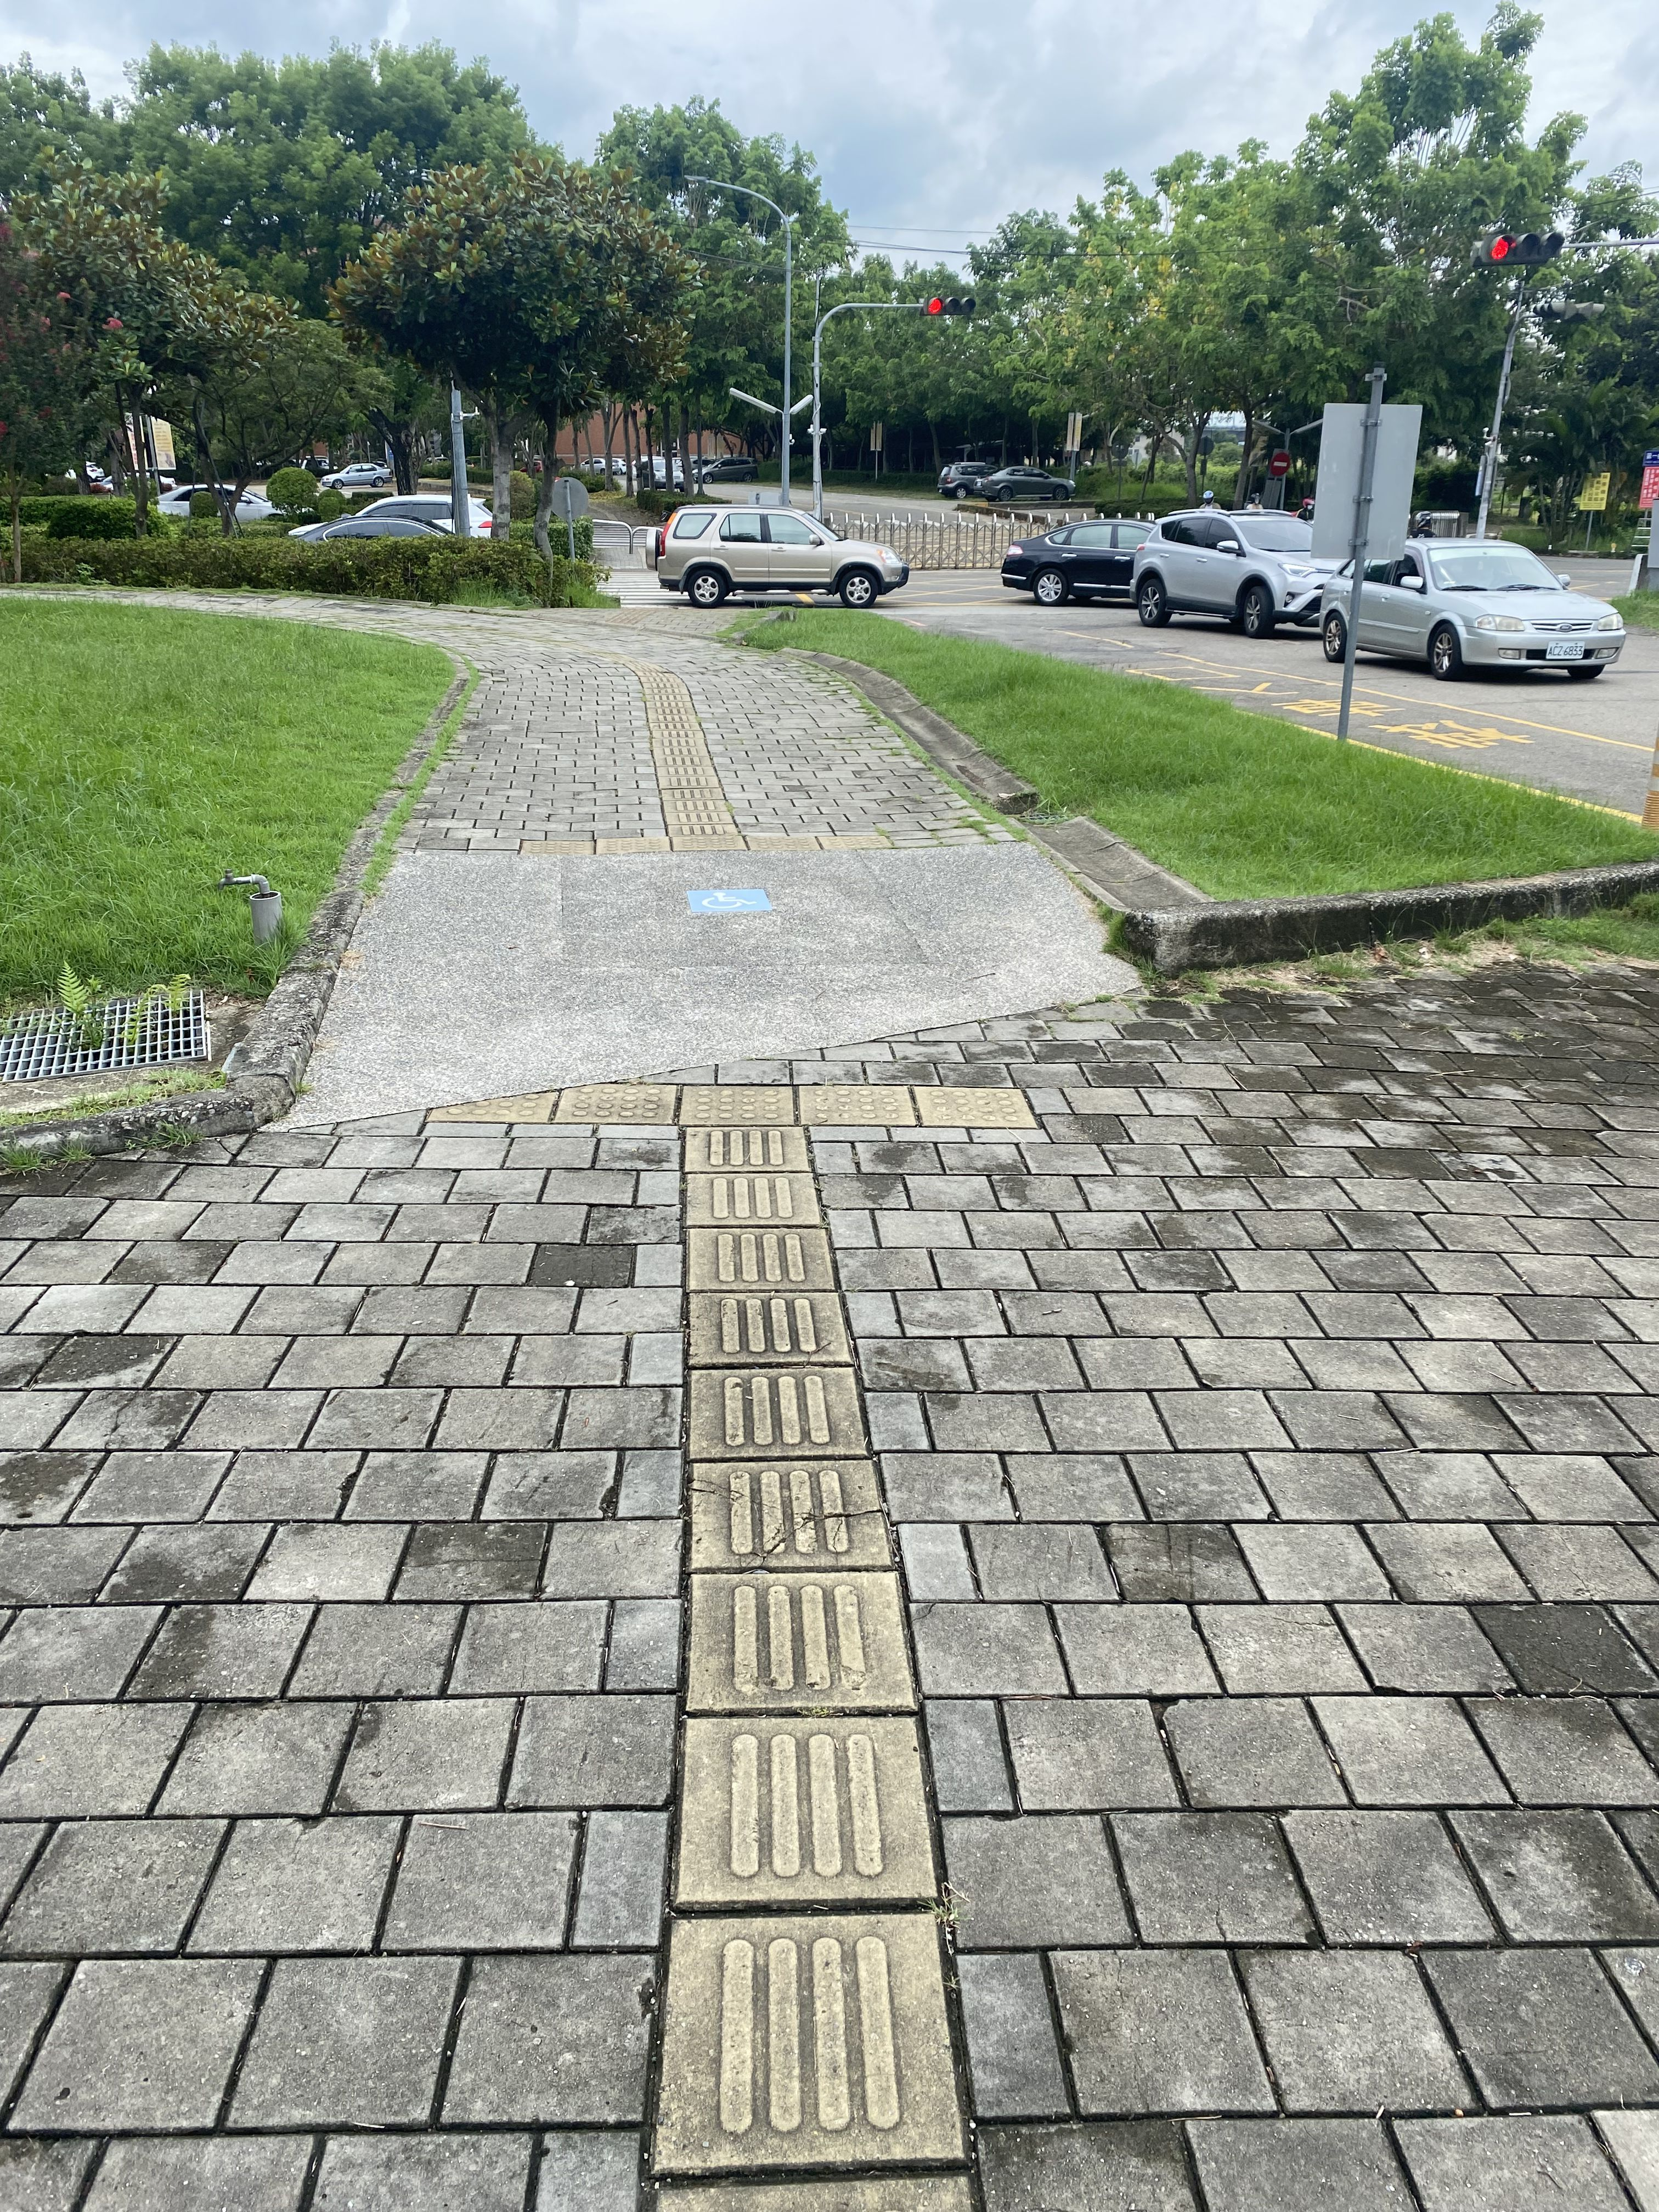0: (10, 1099, 1659, 2212)
sidewalk: (207, 577, 1227, 1176)
